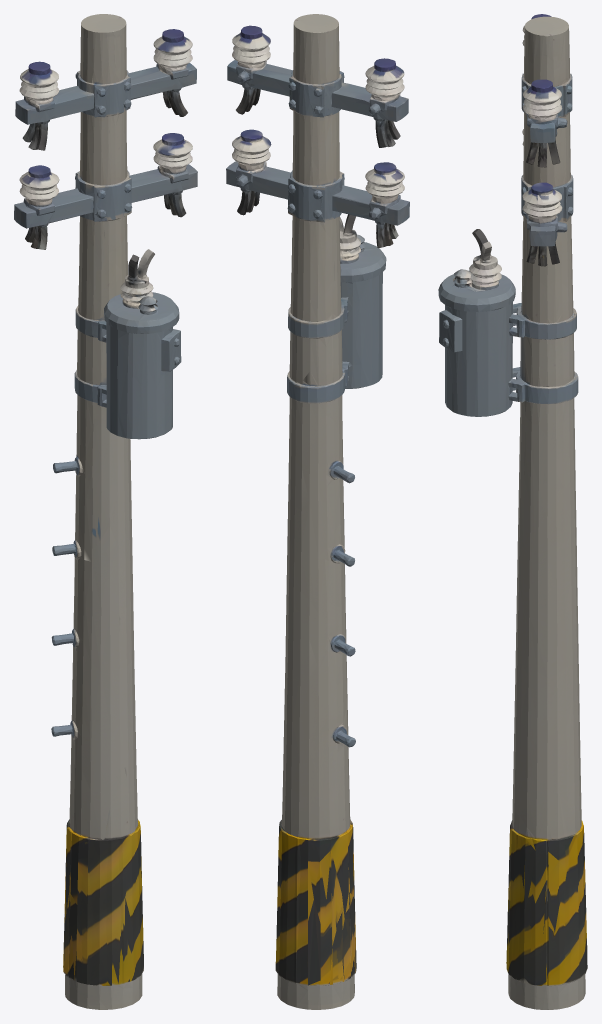
File: utility_pole.glb
The picture shows the model from 3 angles, left to right: view 1: azimuth 30°, elevation 25°; view 2: azimuth 150°, elevation 25°; view 3: azimuth 270°, elevation 25°; orthographic projection.
Parts seen in each view (by area): view 1: utility_pole; view 2: utility_pole; view 3: utility_pole.
Part boxes in pixels (<box>): utility_pole: <box>14,14,197,1009</box>; utility_pole: <box>226,14,409,1009</box>; utility_pole: <box>438,14,587,1009</box>.
Size of the model in its own units: 2.25 by 12 by 1.68.
Materials: 1 (1 with a texture image).
